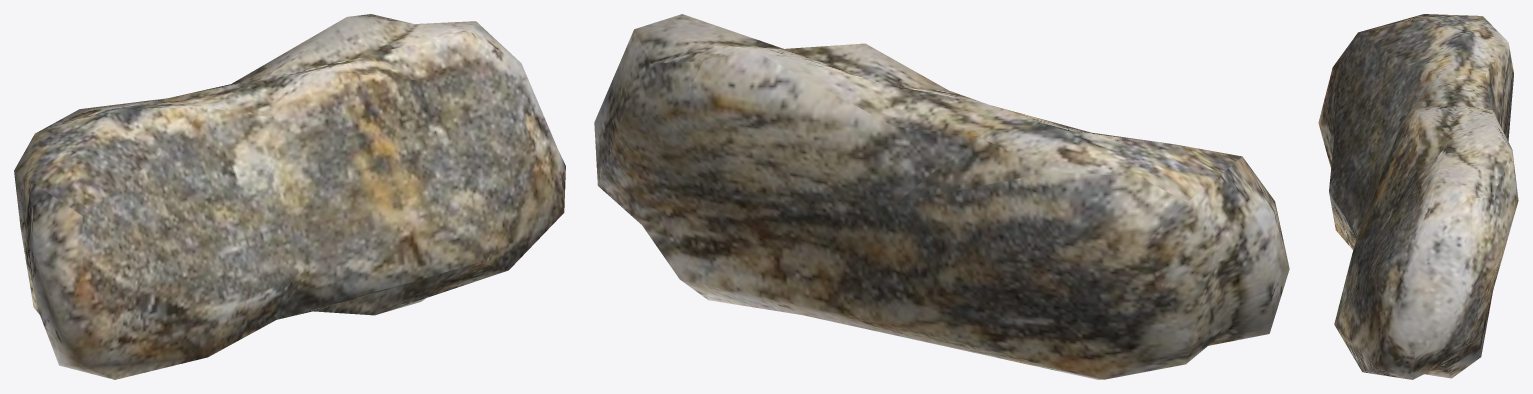
The model's file is rock.glb.
The picture shows the model from 3 angles, left to right: view 1: azimuth 30°, elevation 25°; view 2: azimuth 150°, elevation 25°; view 3: azimuth 270°, elevation 25°; orthographic projection. The views are drawn at different scales.
Parts seen in each view (by area): view 1: rock027_lod4; view 2: rock027_lod4; view 3: rock027_lod4.
Part boxes in pixels (box(x1,y1,x2,y2)): rock027_lod4: box(14, 14, 565, 379); rock027_lod4: box(594, 14, 1289, 379); rock027_lod4: box(1318, 14, 1518, 379).
Size of the model in its own units: 1 by 0.4311 by 0.3422.
1 material, 1 textured.
